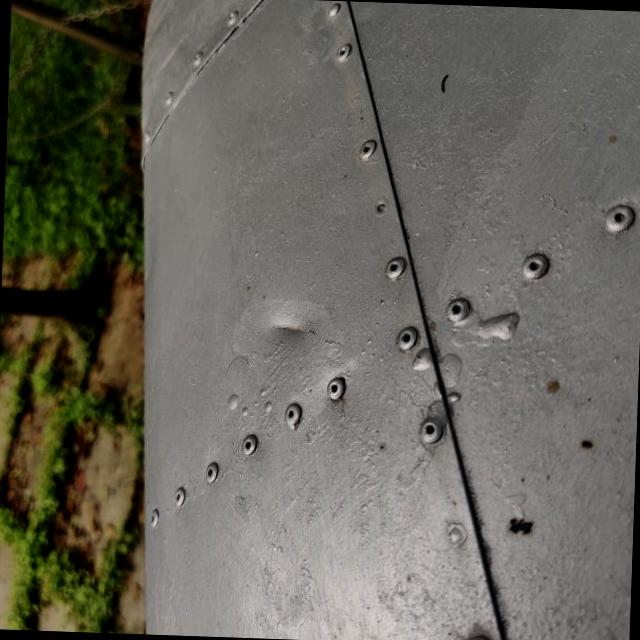dent: (232, 294, 336, 375)
